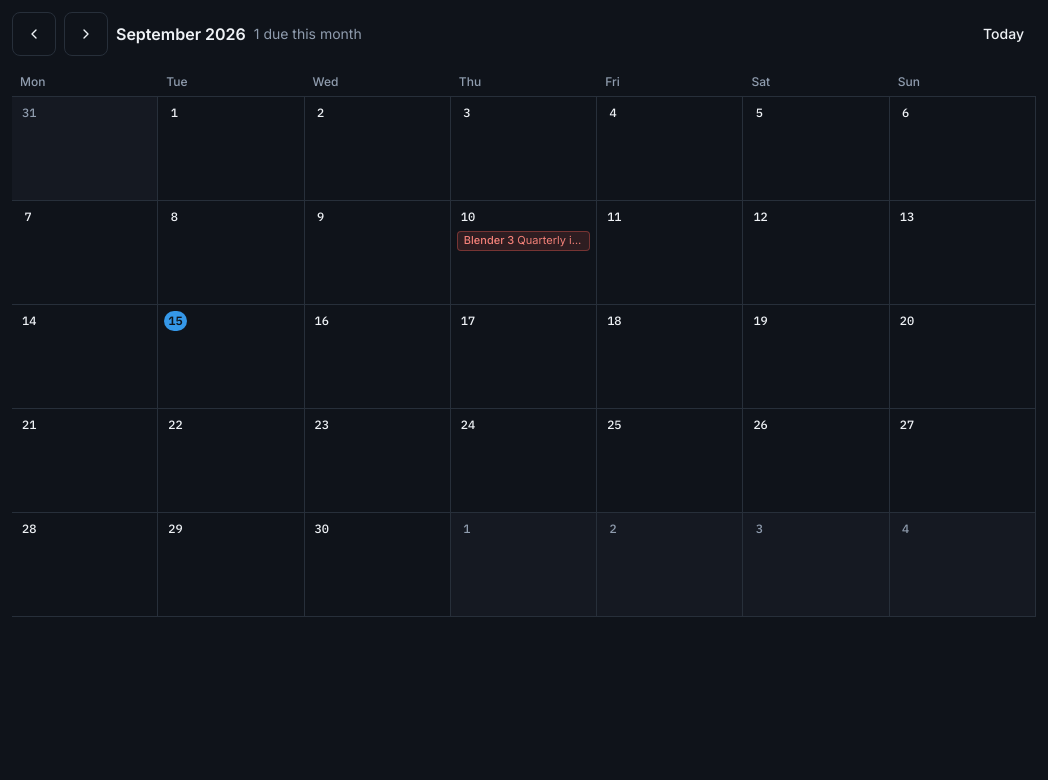
Test: PmCalendarMonth › nao perde de vista um plano que a mudanca de mes deixou para tras
Expected: the button "Blender 3 Quarterly inspection" is shown, [457,231,590,251]
Click the button named "Next month" at (86, 34), box [64,12,108,56]
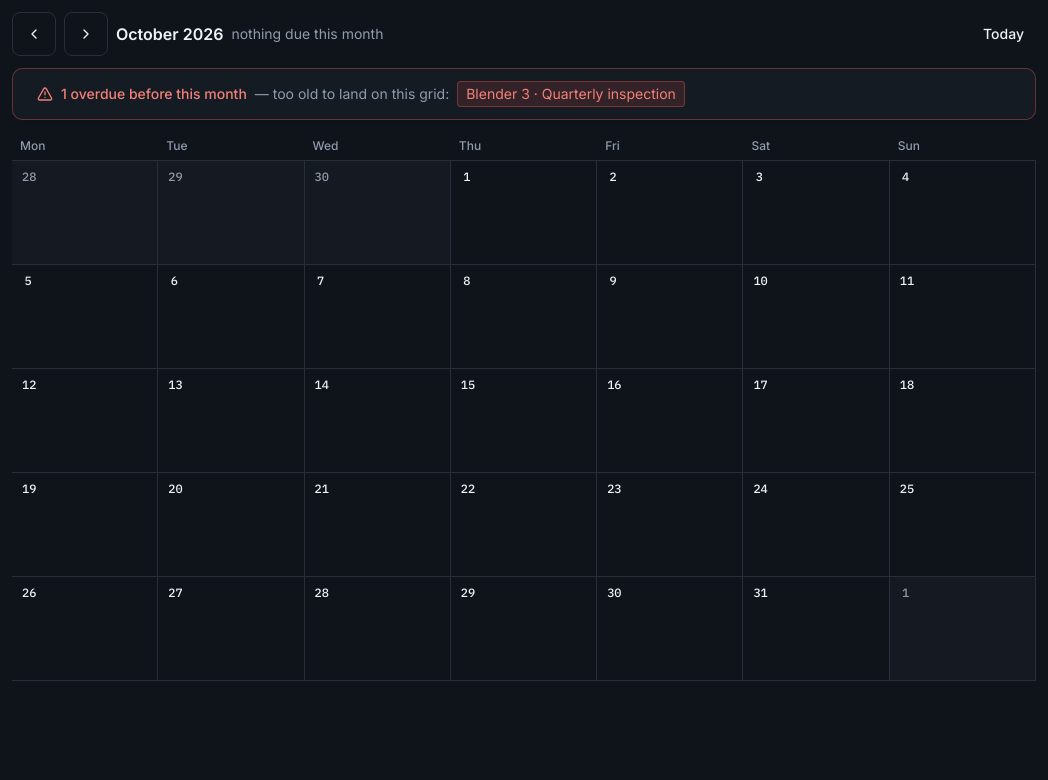
Result: the text "October 2026" is shown at [116,22,223,46]
Result: the text "1 overdue before this month" is shown at [61,84,247,104]
